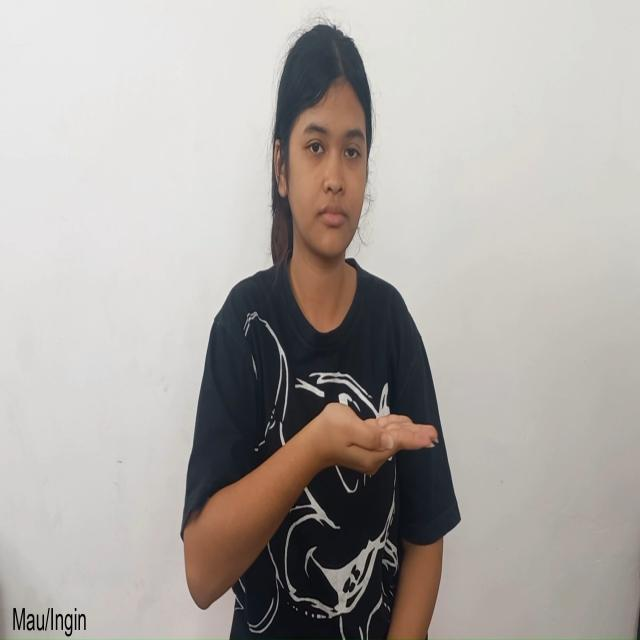Mau-Ingin -BISINDO-: (182, 400, 440, 610)
